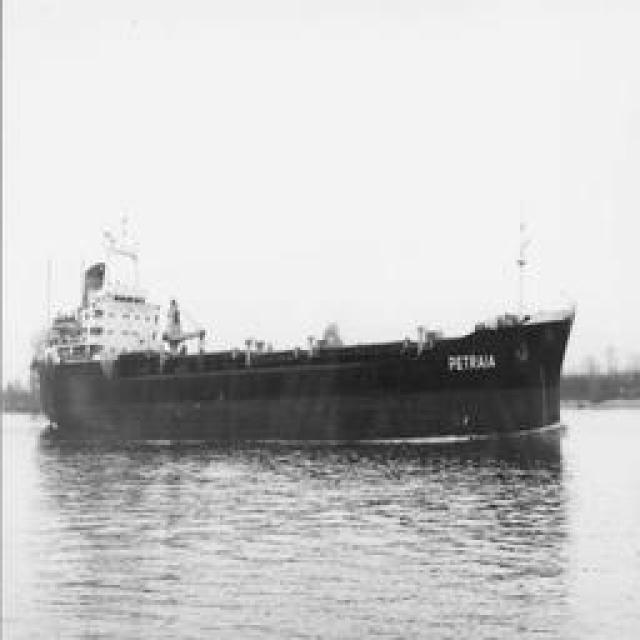Ship: (38, 280, 573, 448)
